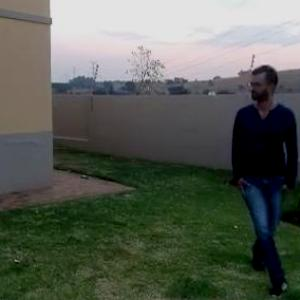follow: (223, 58, 285, 280)
